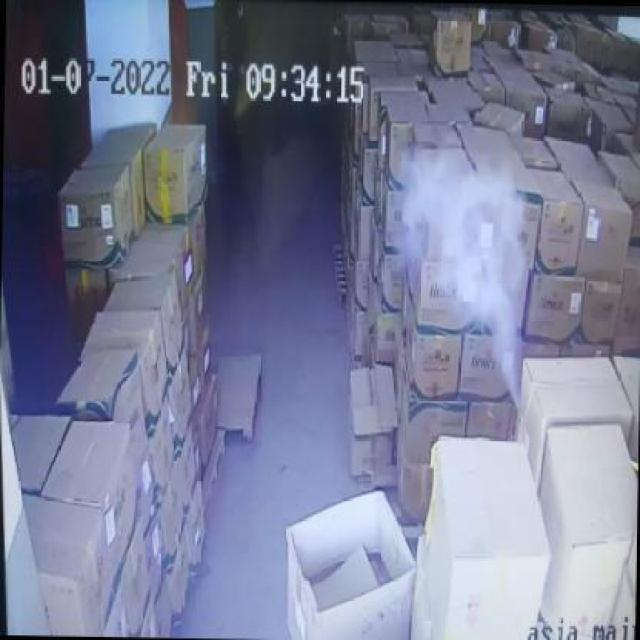fire: (394, 130, 528, 413)
